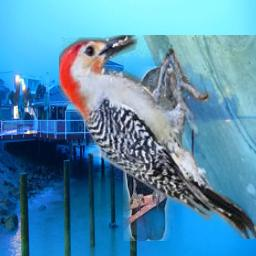Crow: (123, 66, 190, 241)
Woodpecker: (59, 35, 256, 239)
